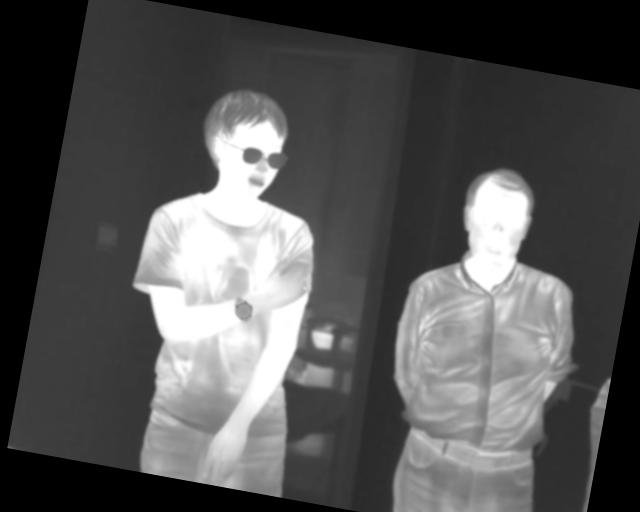face: (192, 81, 297, 205), (453, 160, 543, 276)
